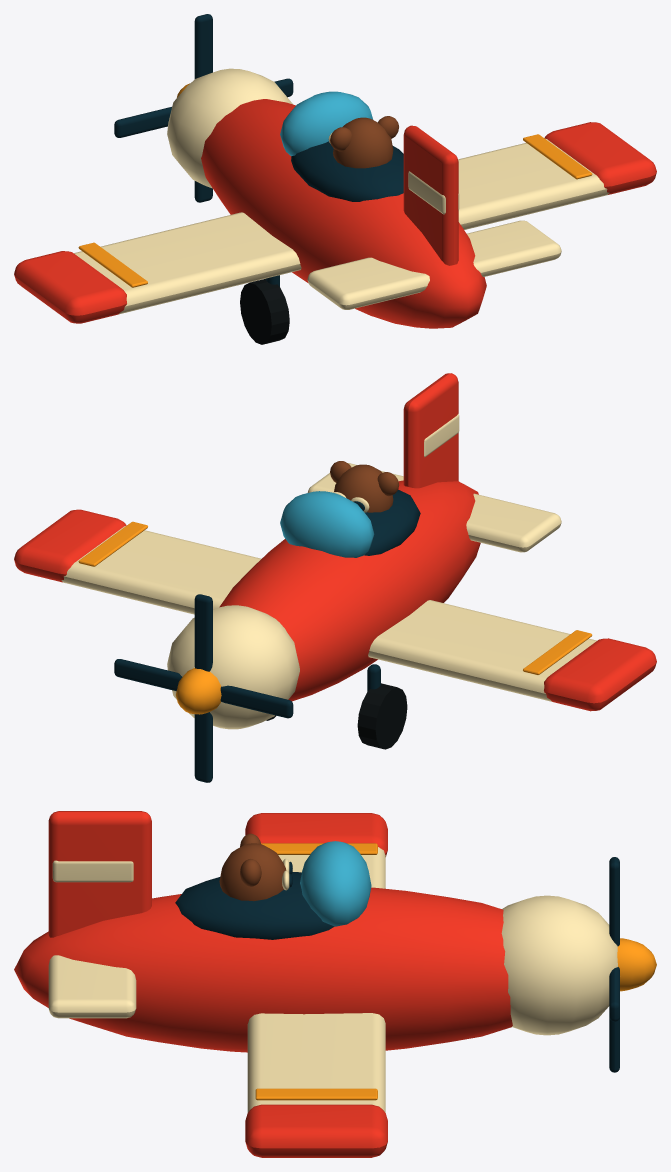
File: toy-plane.glb
The picture shows the model from 3 angles, top to bottom: view 1: azimuth 30°, elevation 25°; view 2: azimuth 150°, elevation 25°; view 3: azimuth 270°, elevation 25°; orthographic projection. The views are drawn at different scales.
Visible parts, largest first — view 1: Fuselage, Main wing, Tail wings, Nose, Tail fin, Coral wingtip, Coral wingtip.001, Cockpit, Windshield, Wheel, Pilot, Prop blade (+4 smaller); view 2: Fuselage, Main wing, Nose, Coral wingtip, Tail fin, Windshield, Coral wingtip.001, Tail wings, Prop blade, Prop blade.001, Wheel, Cockpit (+5 smaller); view 3: Fuselage, Nose, Main wing, Tail fin, Coral wingtip.001, Cockpit, Tail wings, Windshield, Coral wingtip, Pilot, Tail stripe, Wing racing stripe.001 (+4 smaller).
Part boxes in pixels (left/top/right/bottom): Fuselage: left=201, top=99, right=486, bottom=328; Main wing: left=74, top=138, right=609, bottom=314; Tail wings: left=307, top=220, right=561, bottom=309; Nose: left=167, top=68, right=292, bottom=188; Tail fin: left=403, top=125, right=458, bottom=265; Coral wingtip: left=14, top=251, right=126, bottom=323; Coral wingtip.001: left=544, top=122, right=656, bottom=194; Cockpit: left=291, top=141, right=403, bottom=201; Windshield: left=280, top=91, right=373, bottom=156; Wheel: left=240, top=278, right=289, bottom=344; Pilot: left=333, top=117, right=393, bottom=168; Prop blade: left=194, top=14, right=212, bottom=202; Fuselage: left=219, top=480, right=480, bottom=701; Main wing: left=61, top=526, right=596, bottom=701; Nose: left=167, top=605, right=299, bottom=729; Coral wingtip: left=544, top=638, right=656, bottom=711; Tail fin: left=403, top=373, right=458, bottom=488; Windshield: left=280, top=491, right=374, bottom=557; Coral wingtip.001: left=14, top=509, right=126, bottom=582; Tail wings: left=307, top=463, right=561, bottom=552; Prop blade: left=194, top=594, right=212, bottom=782; Prop blade.001: left=114, top=659, right=293, bottom=718; Wheel: left=357, top=683, right=407, bottom=749; Cockpit: left=364, top=489, right=420, bottom=555; Fuselage: left=14, top=887, right=512, bottom=1052; Nose: left=501, top=895, right=617, bottom=1035; Main wing: left=247, top=847, right=385, bottom=1112; Tail fin: left=48, top=811, right=151, bottom=937; Coral wingtip.001: left=245, top=1104, right=387, bottom=1157; Cockpit: left=175, top=872, right=334, bottom=939; Tail wings: left=48, top=955, right=136, bottom=1018; Windshield: left=300, top=841, right=371, bottom=926; Coral wingtip: left=245, top=813, right=387, bottom=856; Pilot: left=219, top=843, right=286, bottom=901; Tail stripe: left=52, top=860, right=133, bottom=882; Wing racing stripe.001: left=255, top=1088, right=377, bottom=1100.
Bounding box in the file's own units: 4.92 × 2.11 × 4.1.
